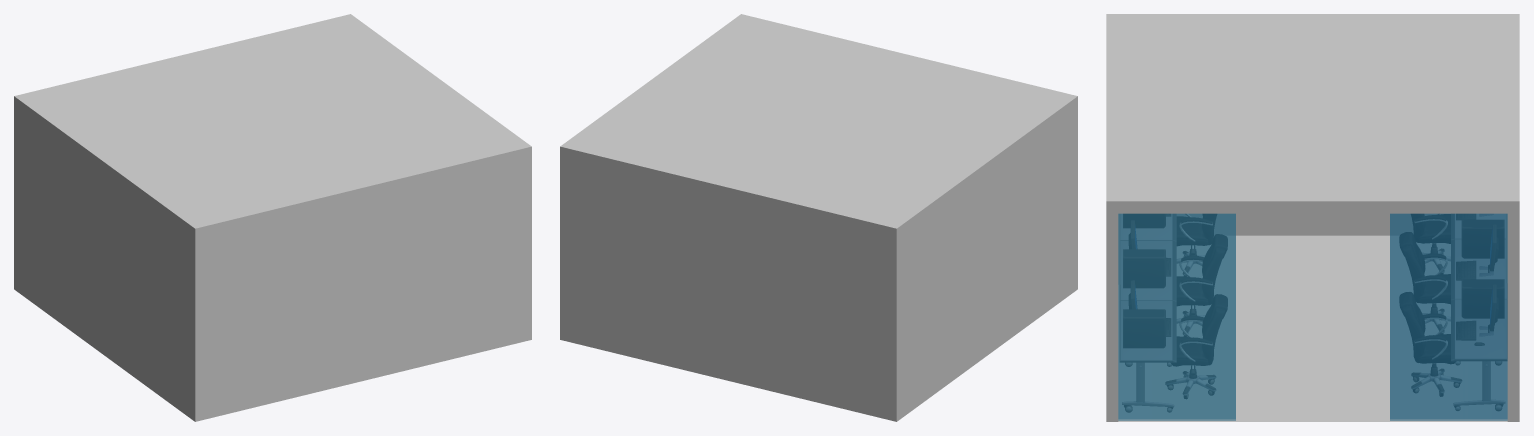
The model's file is pc_room 1.fbx.
3 views of the same model, side by side, from view 1: azimuth 30°, elevation 25°; view 2: azimuth 150°, elevation 25°; view 3: azimuth 270°, elevation 25° (orthographic). The views are drawn at different scales.
Parts seen in each view (by area): view 1: Cube.007; view 2: Cube.007; view 3: Cube.007, Cube.008, OfficeTable01__1_.003, OfficeChair03.003, OfficeChair03, OfficeTable01__1_.001, OfficeComputer01_1.003, OfficeComputer01_1.004, OfficeChair03.004, OfficeChair03.001, OfficeComputer01_1, OfficeComputer01_1.001 (+7 smaller).
Part boxes in pixels (x1,y1,x2,y2): Cube.007: (14,14,531,421); Cube.007: (560,14,1077,421); Cube.007: (1106,14,1519,421); Cube.008: (1118,213,1507,420); OfficeTable01__1_.003: (1451,299,1507,410); OfficeChair03.003: (1399,292,1461,396); OfficeChair03: (1165,294,1227,398); OfficeTable01__1_.001: (1120,301,1176,412); OfficeComputer01_1.003: (1456,279,1504,345); OfficeComputer01_1.004: (1456,220,1504,280); OfficeChair03.004: (1399,232,1450,334); OfficeChair03.001: (1177,234,1227,336); OfficeComputer01_1: (1123,280,1170,347); OfficeComputer01_1.001: (1123,220,1170,287).
Size of the model in its own units: 354 by 194 by 330.
